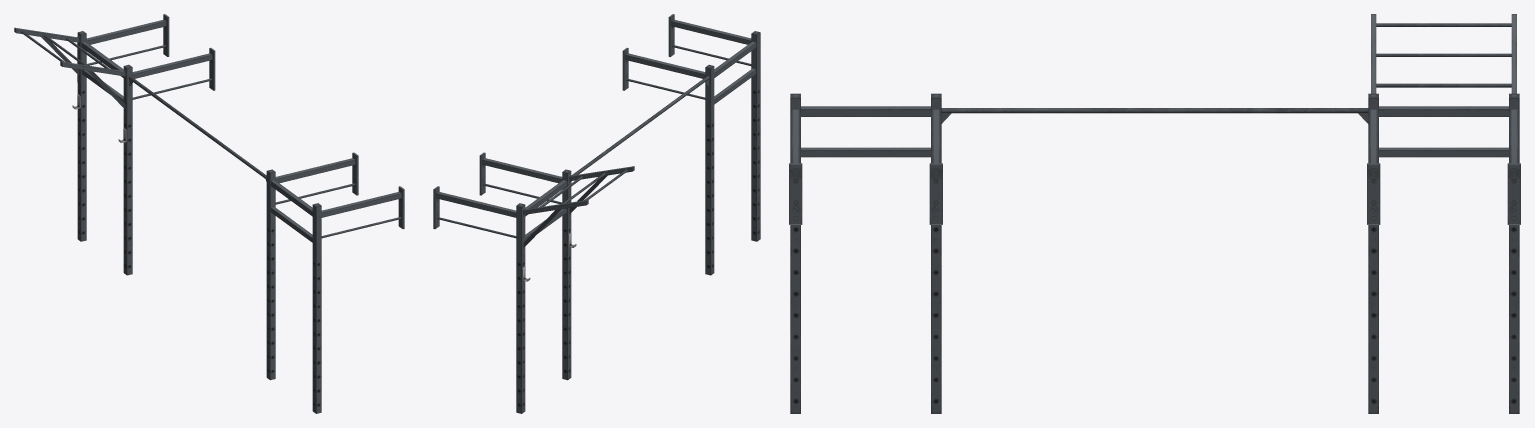
Rendered from MB_Horizontal_Bar_05.fbx.
3 views of the same model, side by side, from view 1: azimuth 30°, elevation 25°; view 2: azimuth 150°, elevation 25°; view 3: azimuth 270°, elevation 25° (orthographic). The views are drawn at different scales.
Parts seen in each view (by area): view 1: MB_Horizontal_Bar_05_LOD0; view 2: MB_Horizontal_Bar_05_LOD0; view 3: MB_Horizontal_Bar_05_LOD0.
Part boxes in pixels (x1,y1,x2,y2): MB_Horizontal_Bar_05_LOD0: (14,14,404,413); MB_Horizontal_Bar_05_LOD0: (433,14,760,413); MB_Horizontal_Bar_05_LOD0: (789,14,1520,413).
Size of what is drawn, in the model's own units: 208 by 298 by 568.
